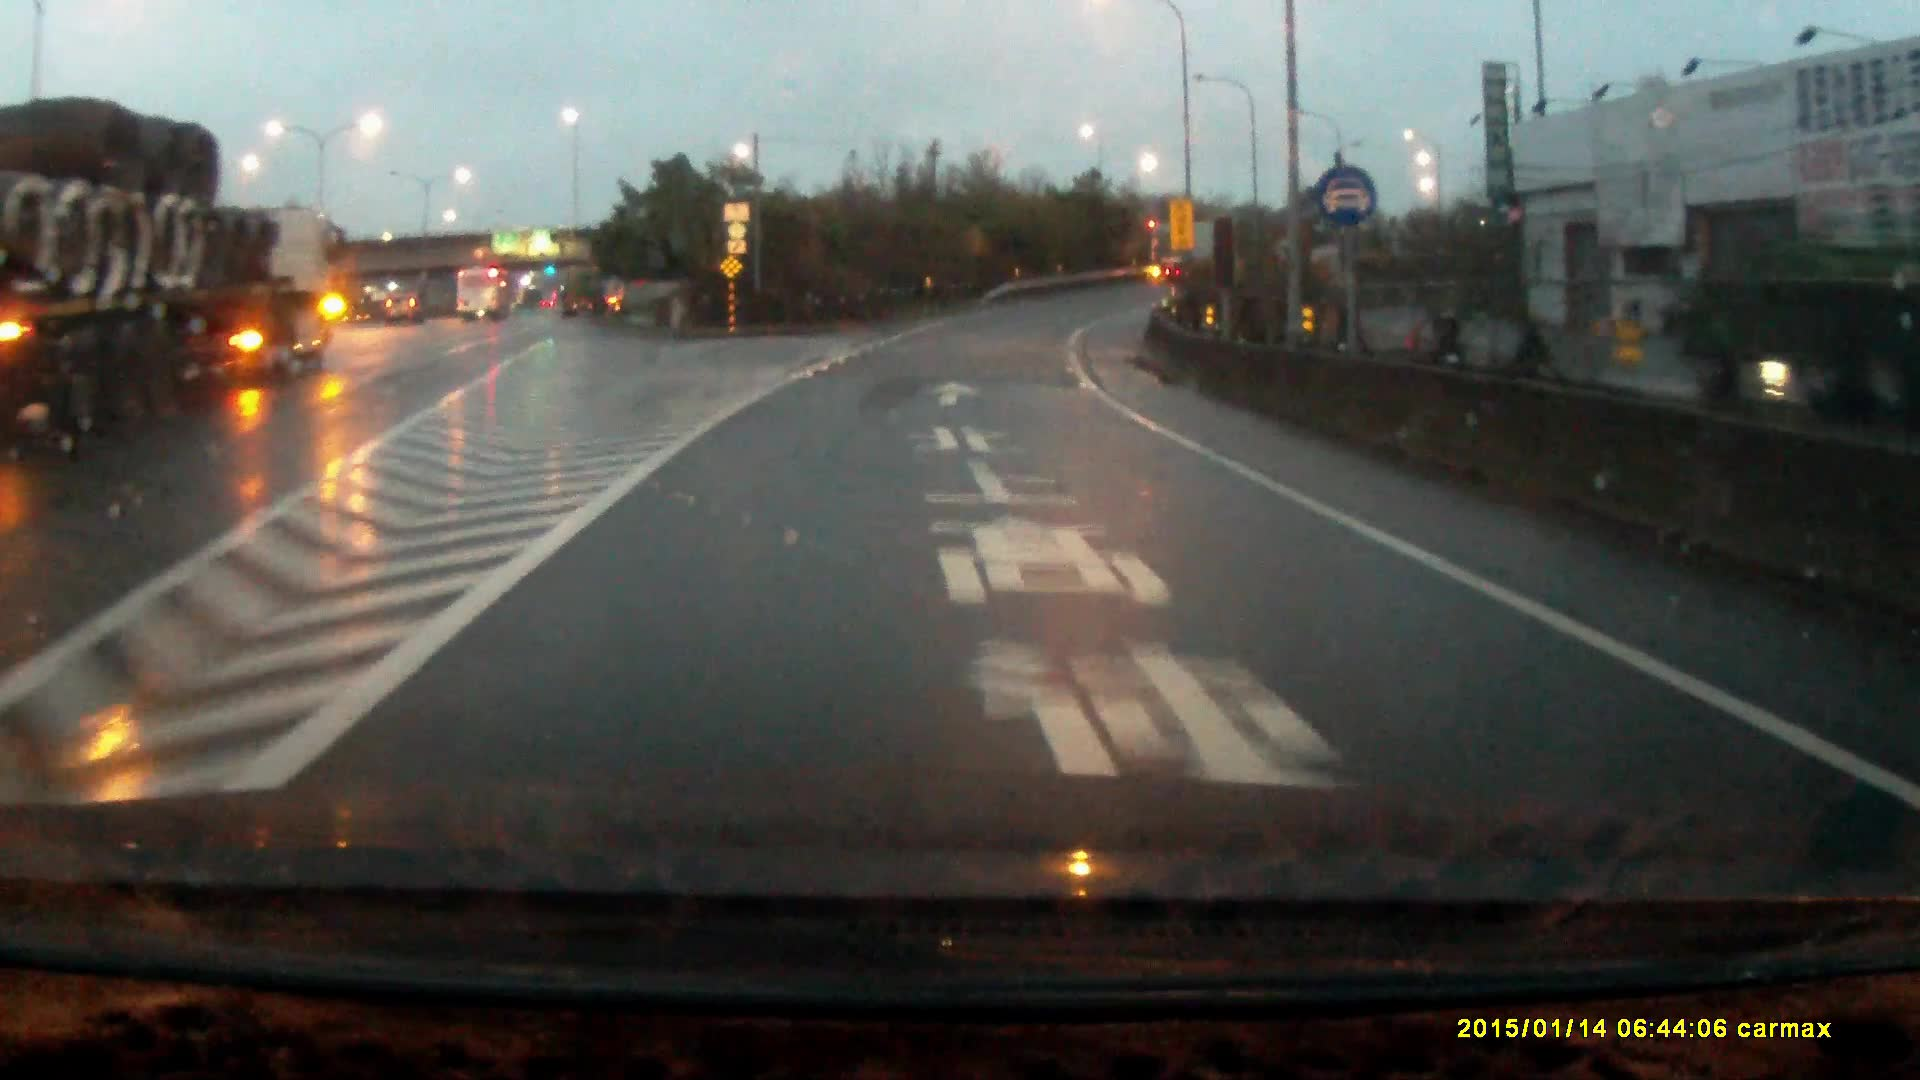vehicle: (1, 102, 348, 434), (1149, 219, 1241, 281), (456, 266, 517, 324), (386, 291, 423, 323)
